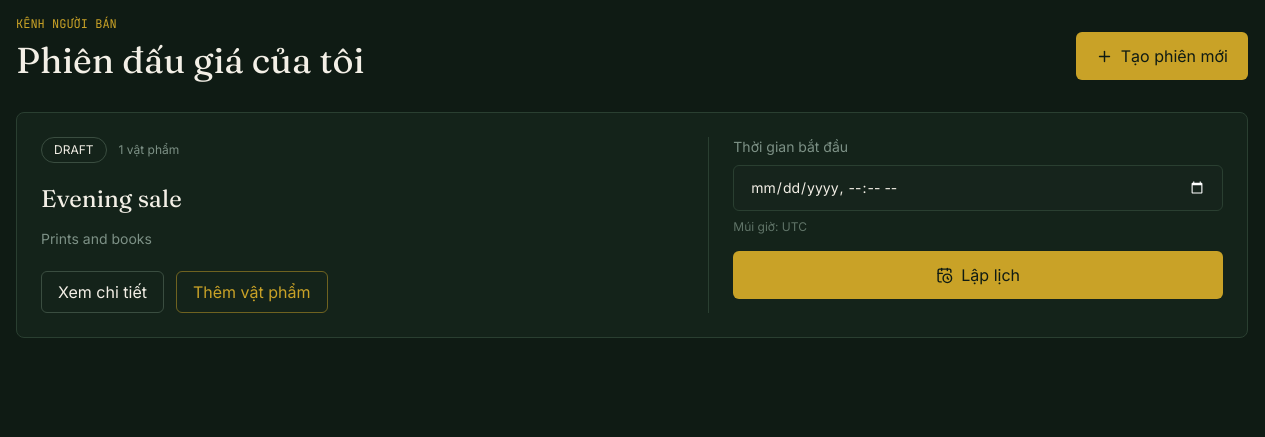
MyAuctionsPage › rejects a past schedule locally
The width and height of the screenshot is (1265, 437).
Expected: the heading "Evening sale" is shown, [41,184,182,213]
Type "2026-08-03T11:00" into the field labelled "Thời gian bắt đầu".
click(978, 188); type("2026-08-03T11:00")  # box [733,165,1223,211]
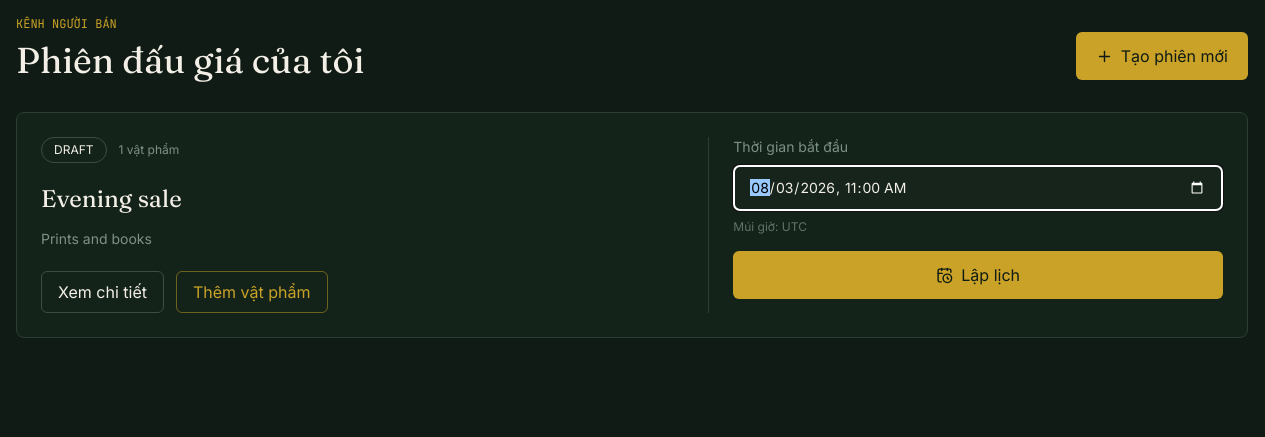
Click the button "Lập lịch".
click(978, 275)  # box [733,251,1223,299]
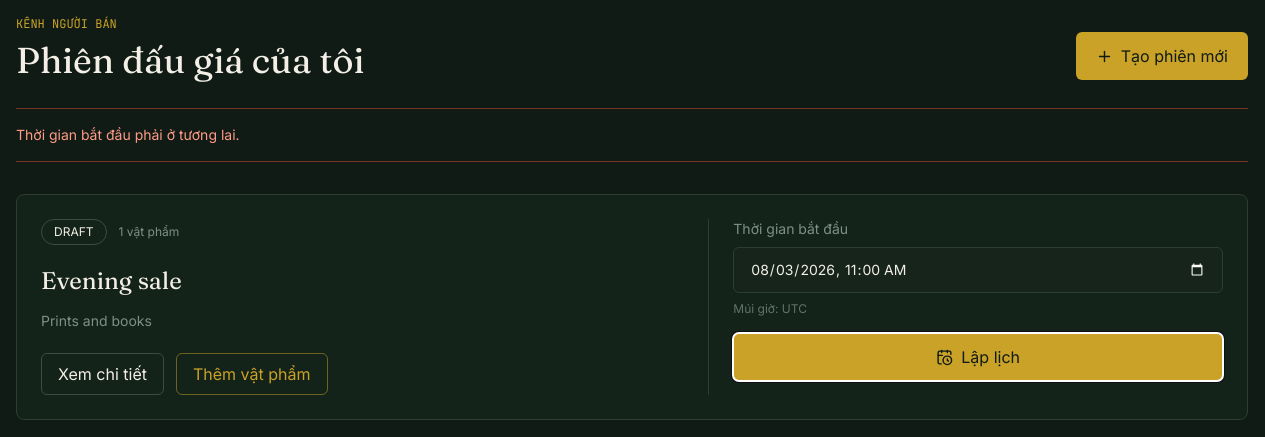
Now the message shows "phải ở tương lai", box [16,126,240,143]
